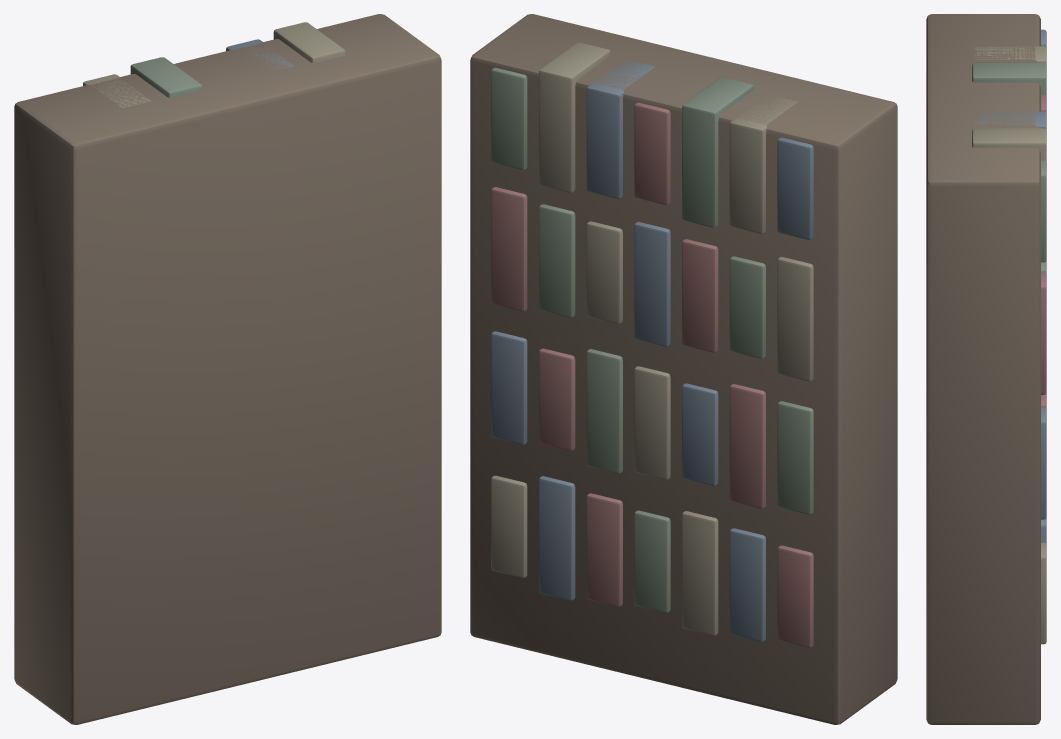
The model's file is bookcase.gltf.
The picture shows the model from 3 angles, left to right: view 1: azimuth 30°, elevation 25°; view 2: azimuth 150°, elevation 25°; view 3: azimuth 270°, elevation 25°; orthographic projection. The views are drawn at different scales.
Visible parts, largest first — view 1: Body; view 2: Body; view 3: Body.
Boxes of the visible parts, x1=… form: Body: x1=14, y1=14, x2=441, y2=724; Body: x1=470, y1=14, x2=897, y2=724; Body: x1=926, y1=14, x2=1046, y2=724.
Bounding box in the file's own units: 1.4 × 2.12 × 0.42.
